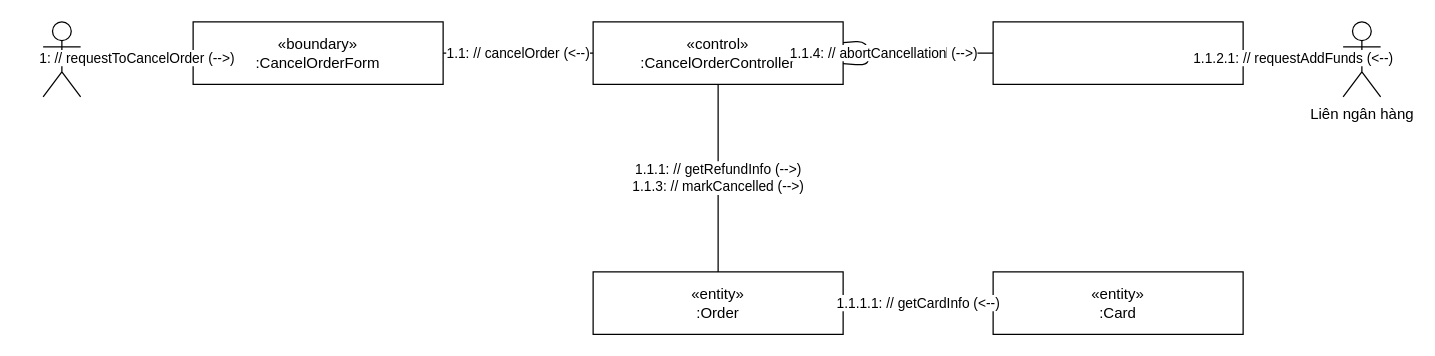
Image size: 1435x356. Some labels were removed from this diagram. Here are the shapes that lost their labels. From the top down, the centre of each, then its label:
At point 61,59: "Khách hàng".
At point 1117,52: "«boundary» :InterbankBoundary".
